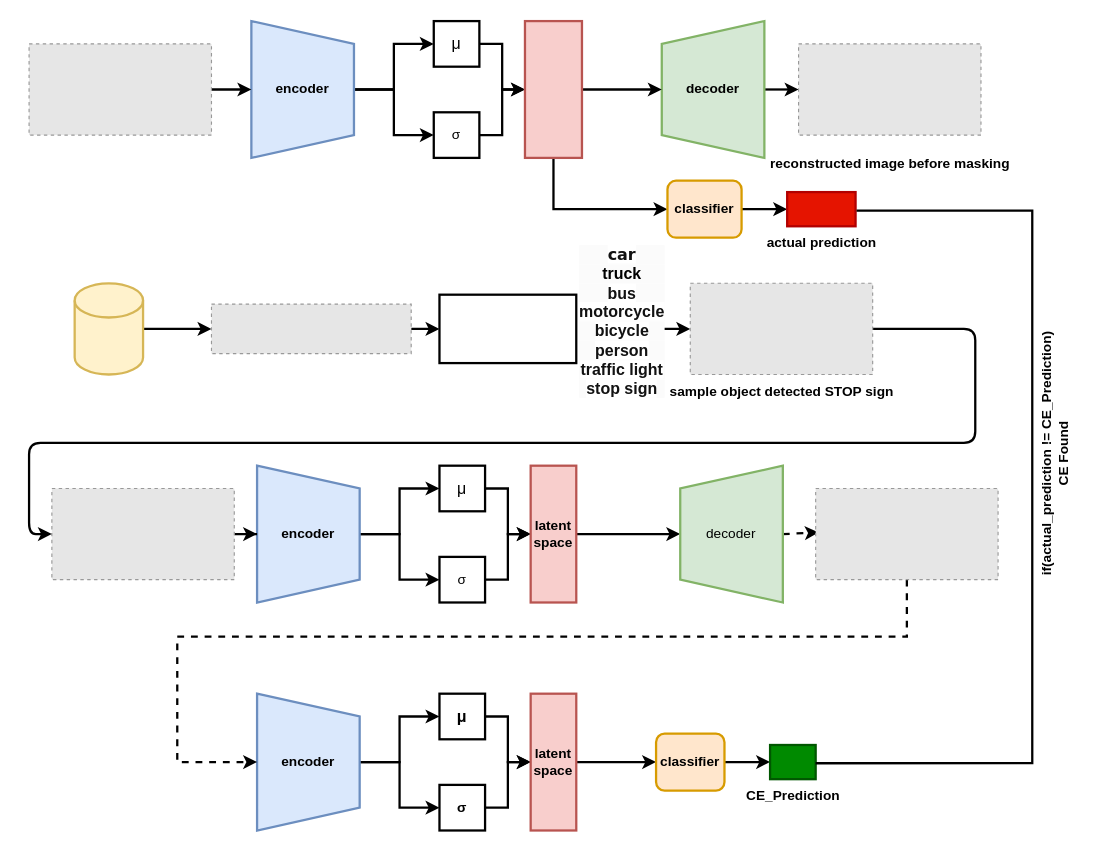
Some shapes in this 1097 by 850 pixel diagram are drawn without their labels. Grey dashed boxes stand in for pictures. Here are the shapes that lost their labels. From the top down, the centre of each, then its label:
the point at 553,88: latent space of 128 features
the point at 820,208: STOP
the point at 108,328: dataset
the point at 507,328: detect object for carla dataset I have
the point at 792,761: GO
